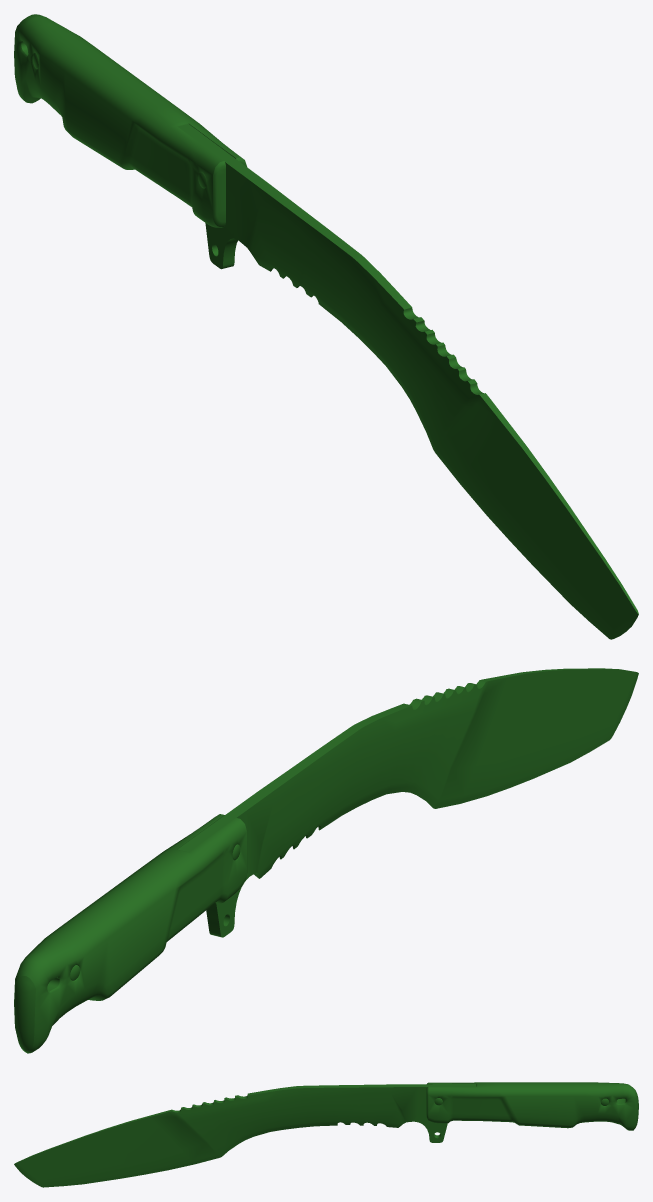
Rendered from Kukri_blade.FBX.
3 renders of one model, top to bottom at view 1: azimuth 30°, elevation 25°; view 2: azimuth 150°, elevation 25°; view 3: azimuth 270°, elevation 25°, orthographic. The views are drawn at different scales.
Parts seen in each view (by area): view 1: Kukri_blade; view 2: Kukri_blade; view 3: Kukri_blade.
Part boxes in pixels (x1,y1,x2,y2): Kukri_blade: (14, 14, 638, 639); Kukri_blade: (14, 668, 638, 1053); Kukri_blade: (14, 1082, 638, 1187).
Size of the model in its own units: 2.02 by 8.93 by 49.
